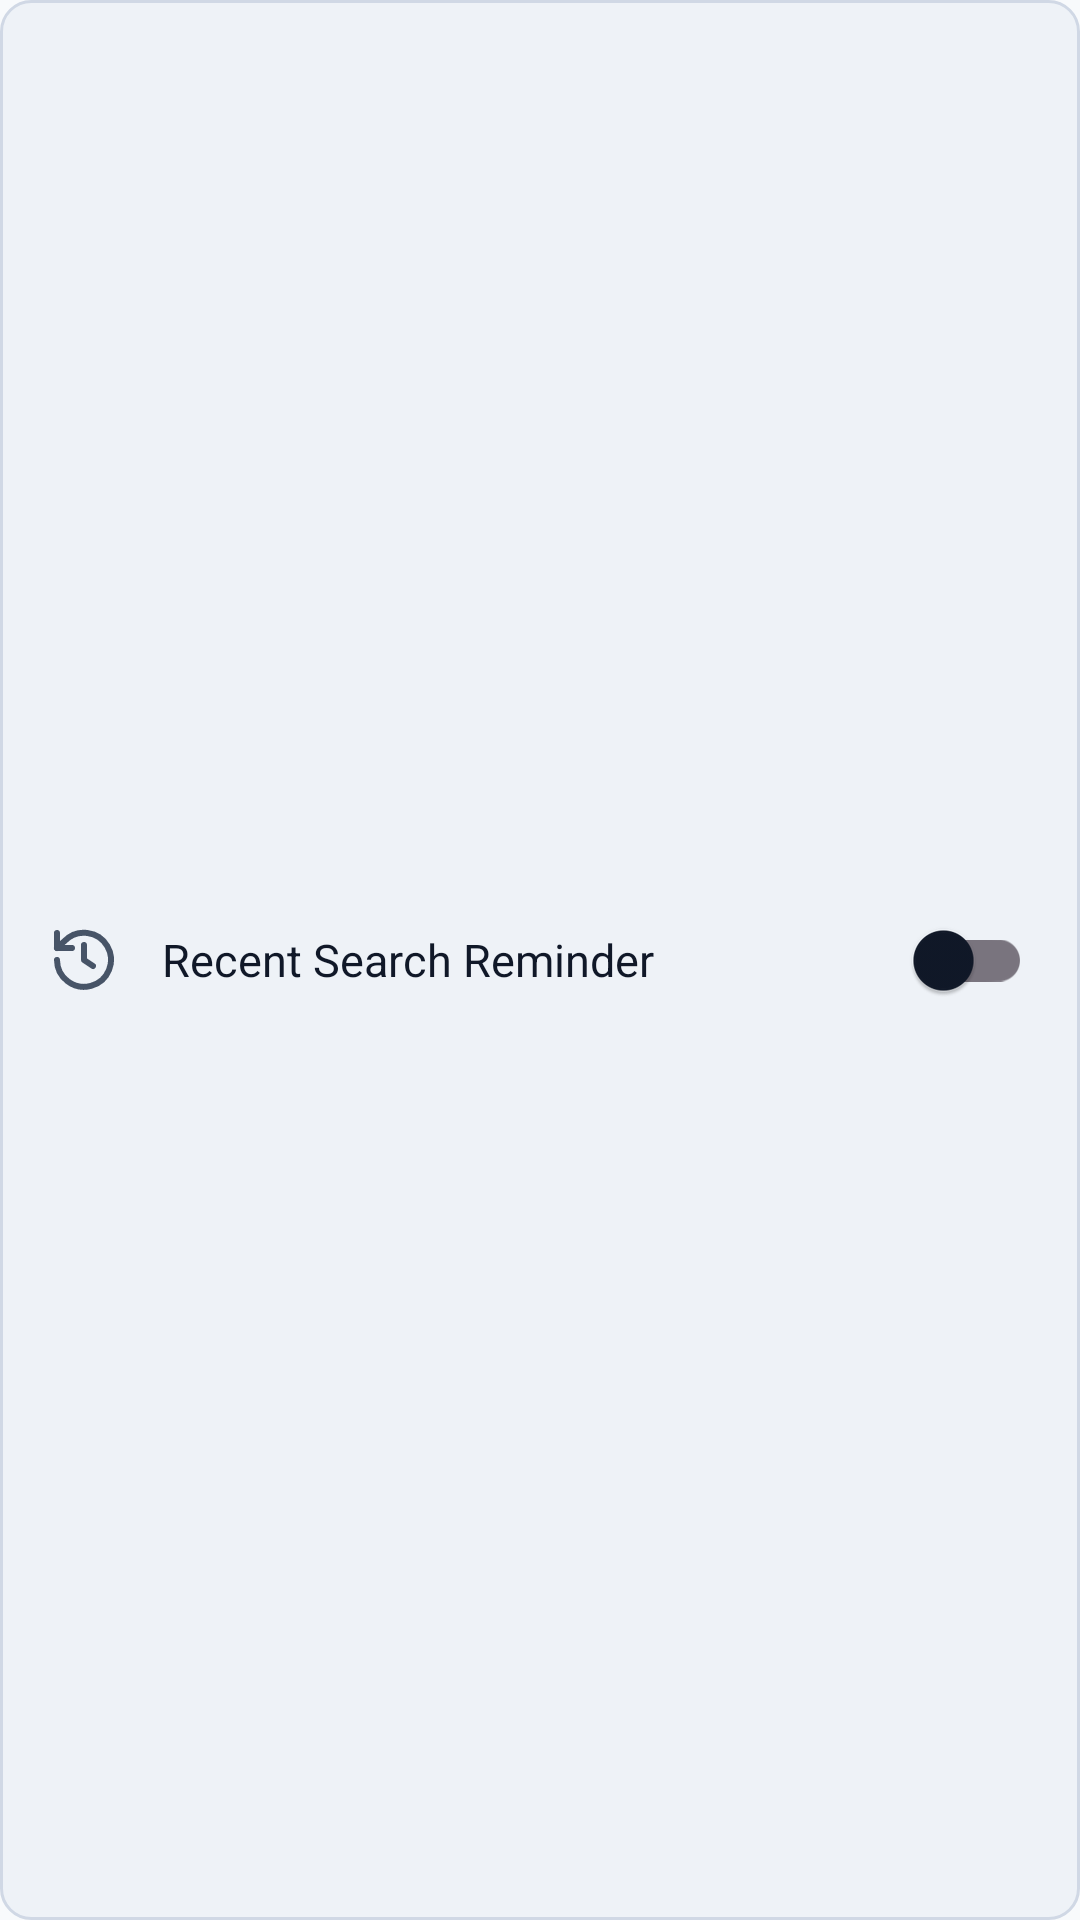

Point at icon controls on the screen. Image size 1080 x 1920, points as (x=x, y=y).
history: (x=84, y=959)
